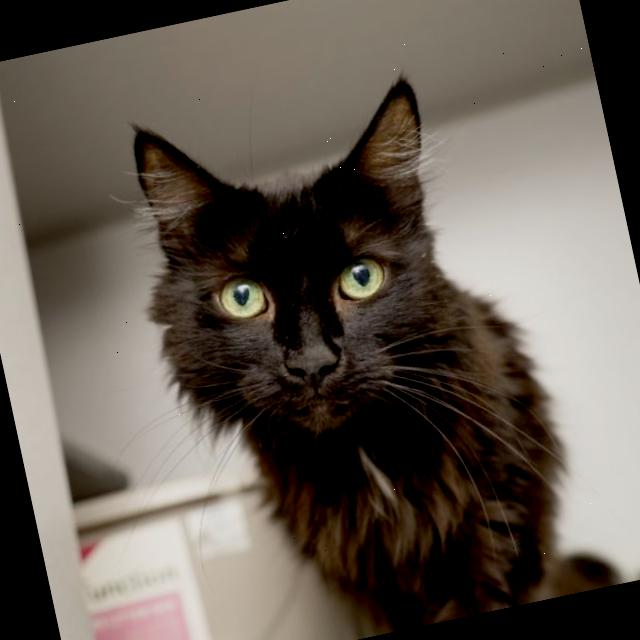maine_coon_cat: (98, 47, 505, 517)
